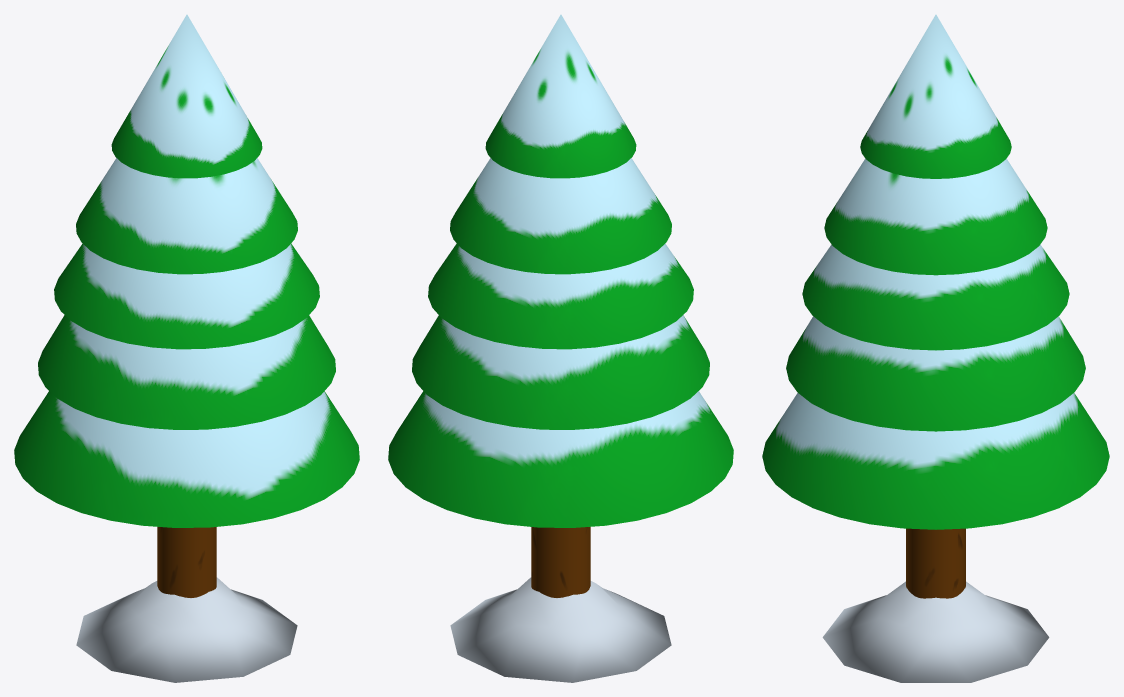
File: Snow_Tree.fbx
3 views of the same model, side by side, from view 1: azimuth 30°, elevation 25°; view 2: azimuth 150°, elevation 25°; view 3: azimuth 270°, elevation 25° (orthographic).
Parts seen in each view (by area): view 1: Pine, Pine.001, Pine.002, Pine.003, Snow, Pine.004, Trunk; view 2: Pine, Pine.001, Pine.002, Pine.003, Snow, Pine.004, Trunk; view 3: Pine, Pine.001, Pine.002, Pine.003, Snow, Pine.004, Trunk.
Part boxes in pixels (x1,y1,x2,y2): Pine: (14, 391, 359, 527); Pine.001: (38, 315, 335, 429); Pine.002: (54, 243, 319, 349); Pine.003: (76, 158, 297, 274); Snow: (76, 577, 297, 682); Pine.004: (111, 14, 262, 178); Trunk: (157, 527, 216, 597); Pine: (388, 391, 733, 527); Pine.001: (412, 315, 709, 429); Pine.002: (428, 243, 693, 349); Pine.003: (450, 158, 671, 274); Snow: (450, 577, 671, 682); Pine.004: (485, 14, 636, 178); Trunk: (531, 527, 590, 597); Pine: (762, 393, 1109, 529); Pine.001: (786, 316, 1085, 431); Pine.002: (802, 244, 1069, 350); Pine.003: (824, 158, 1047, 275); Snow: (822, 581, 1049, 682); Pine.004: (860, 14, 1011, 178); Trunk: (906, 528, 965, 598).
Size of the model in its own units: 228 by 452 by 228.
